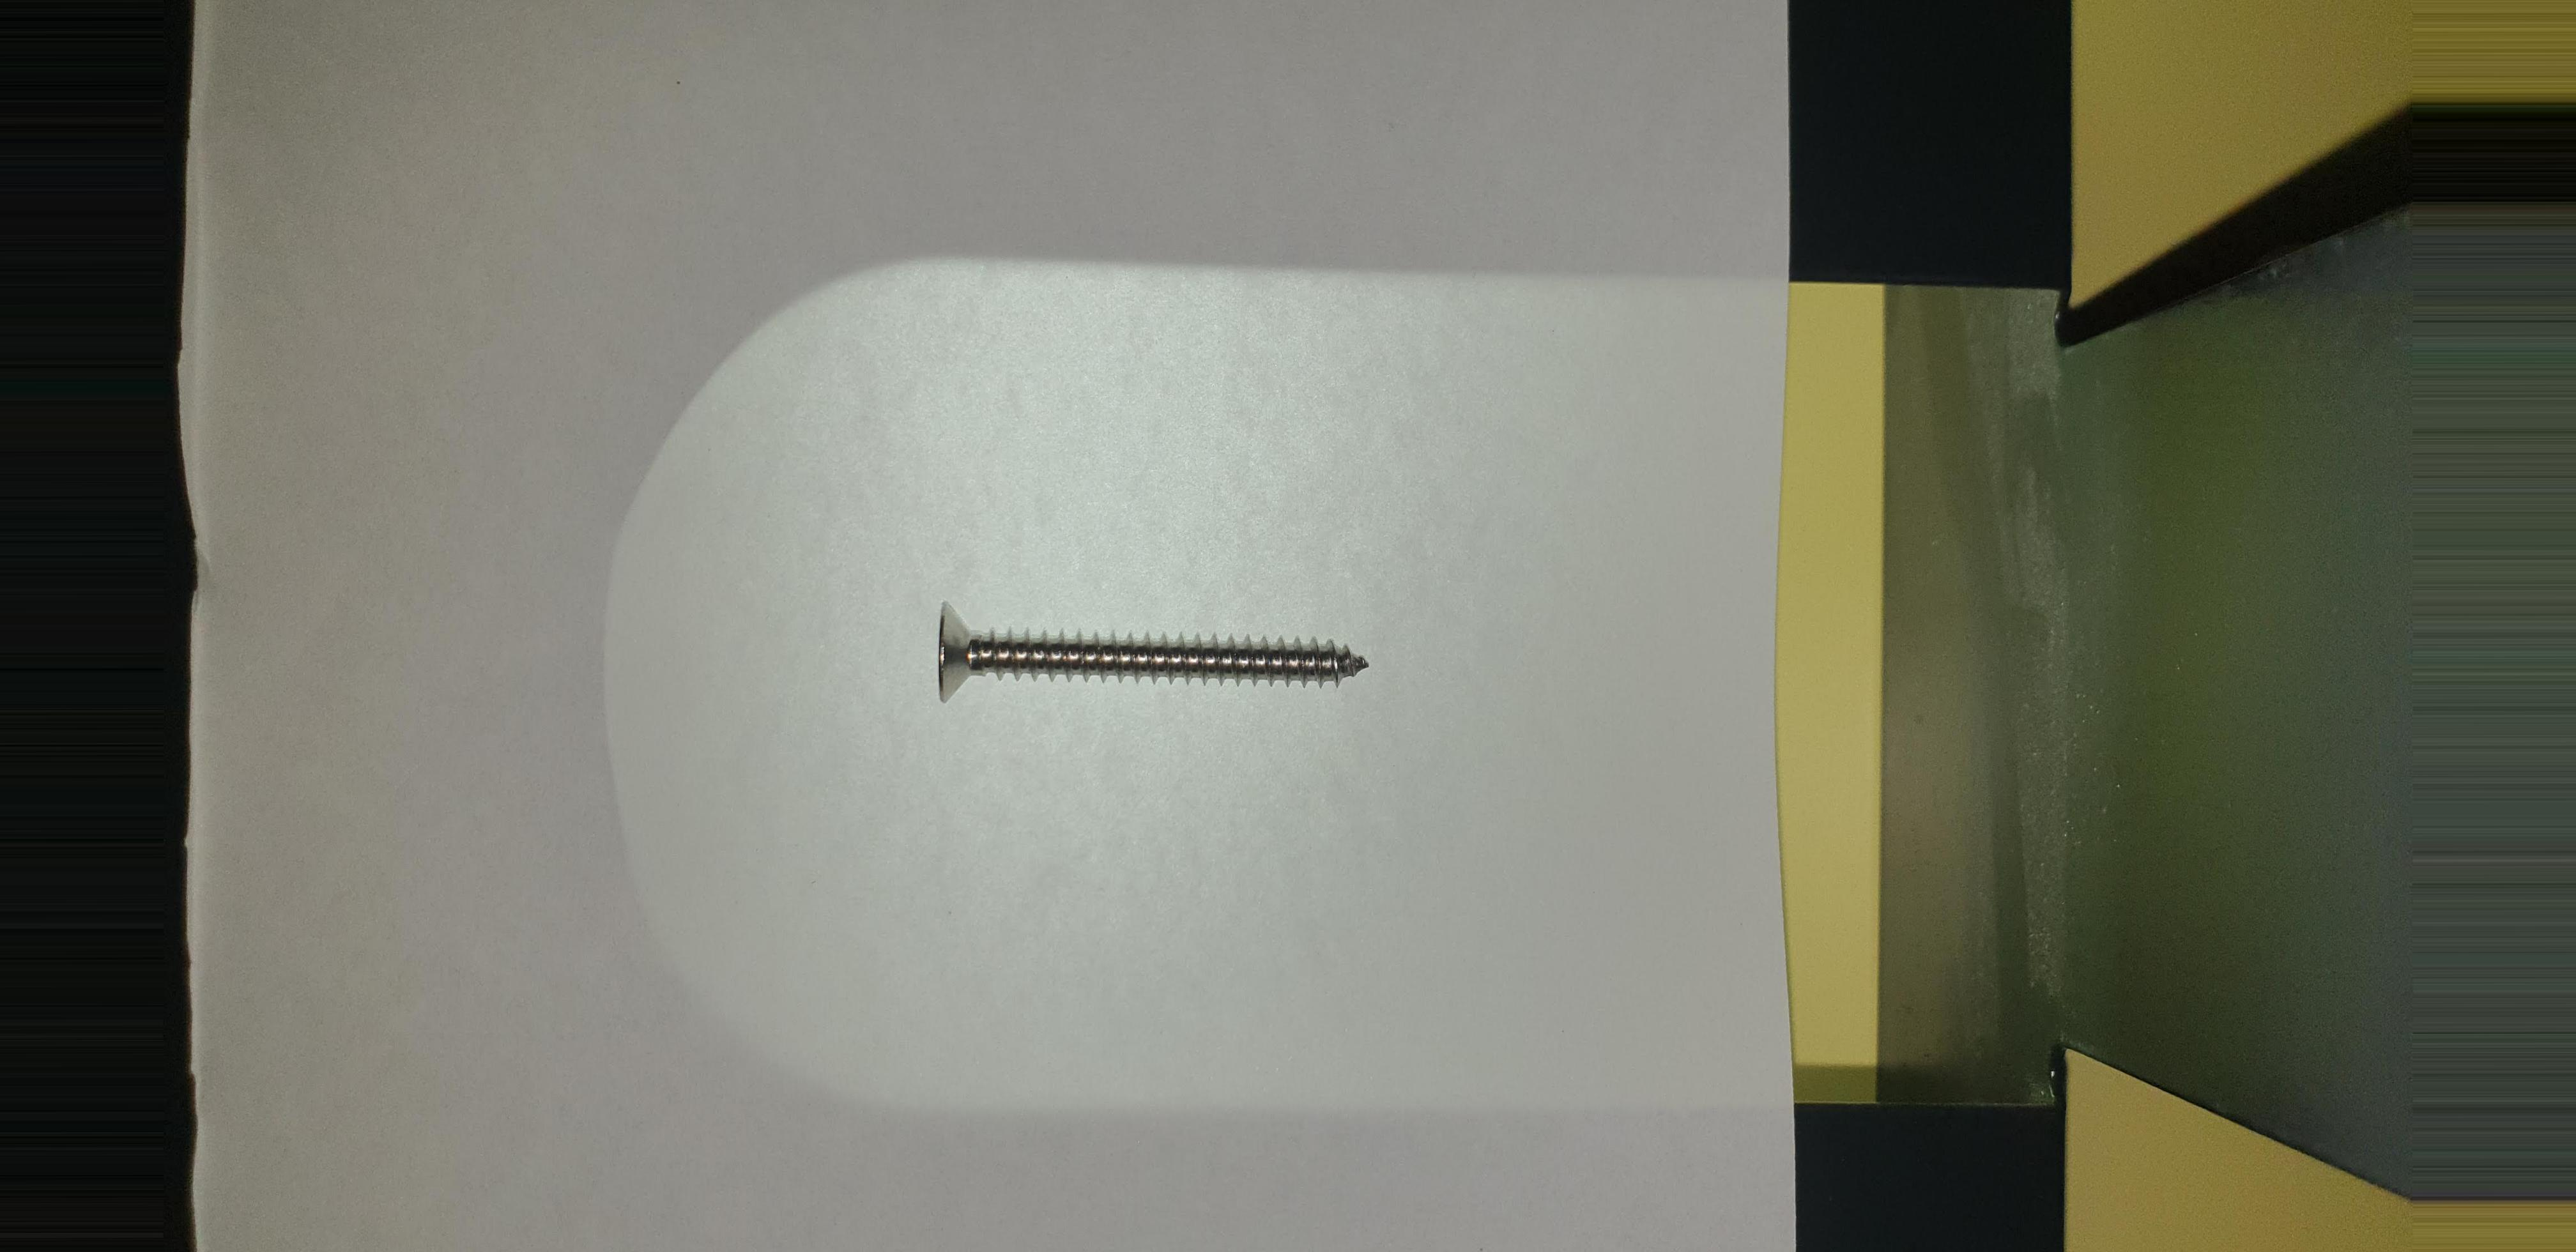fastener: (913, 564, 1419, 738)
